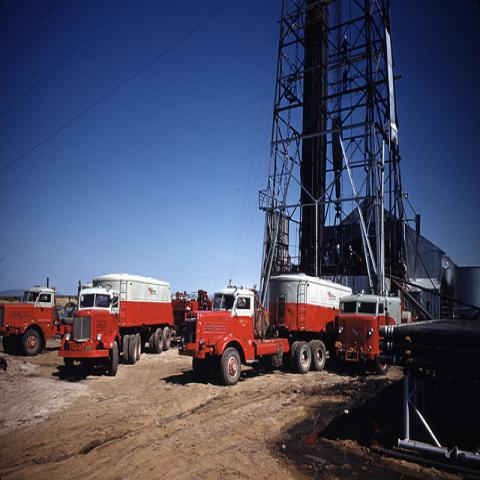truck: (179, 278, 353, 385), (57, 273, 175, 377), (339, 290, 421, 378), (0, 284, 69, 355)
